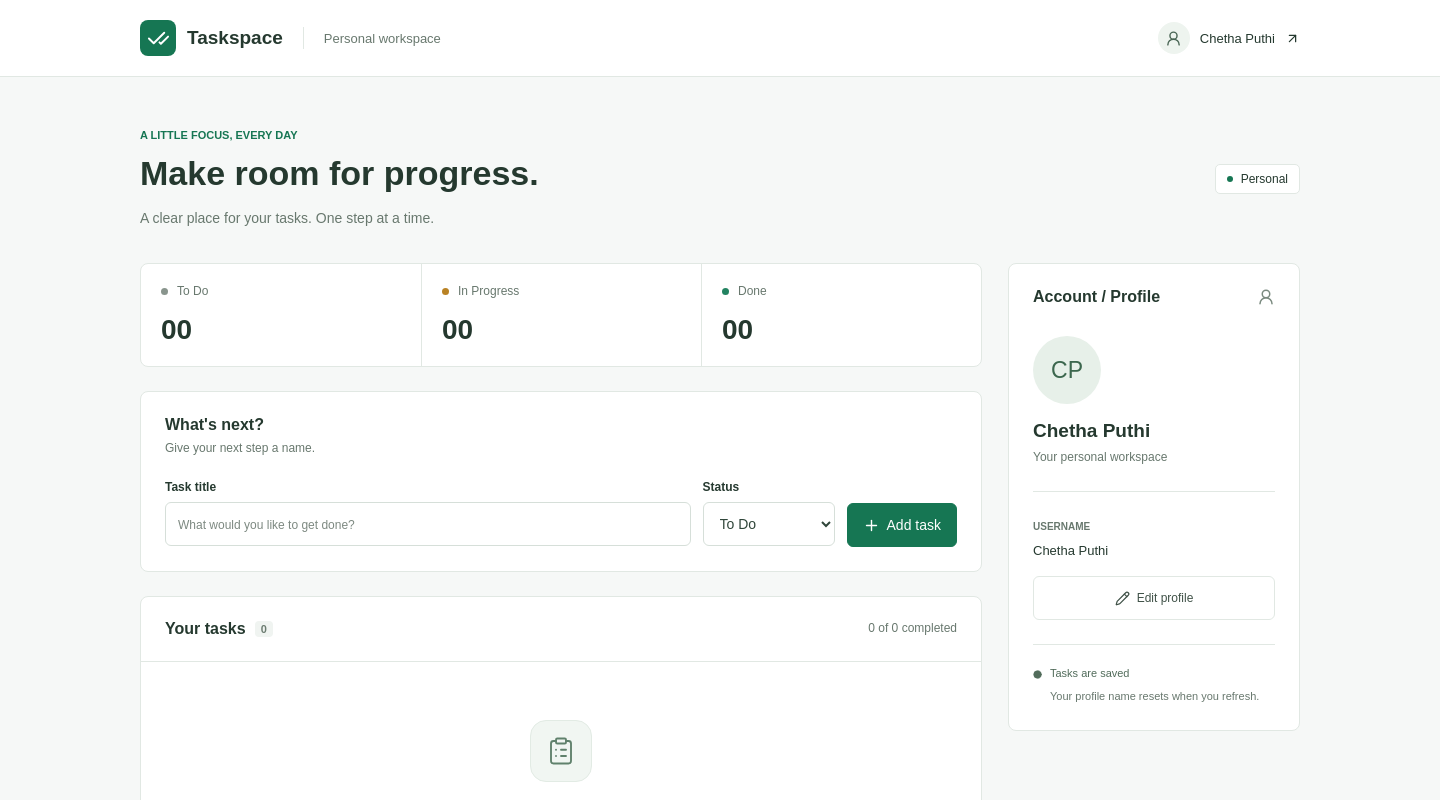
Test: Todo workspace › requires confirmation before deleting and returns to the empty state
This screenshot has width=1440, height=800.
Expected: the button "Add task" is enabled, x1=846 y1=503 x2=957 y2=547
Click the field labelled "Task title": point(428, 524) x1=165 y1=502 x2=690 y2=546
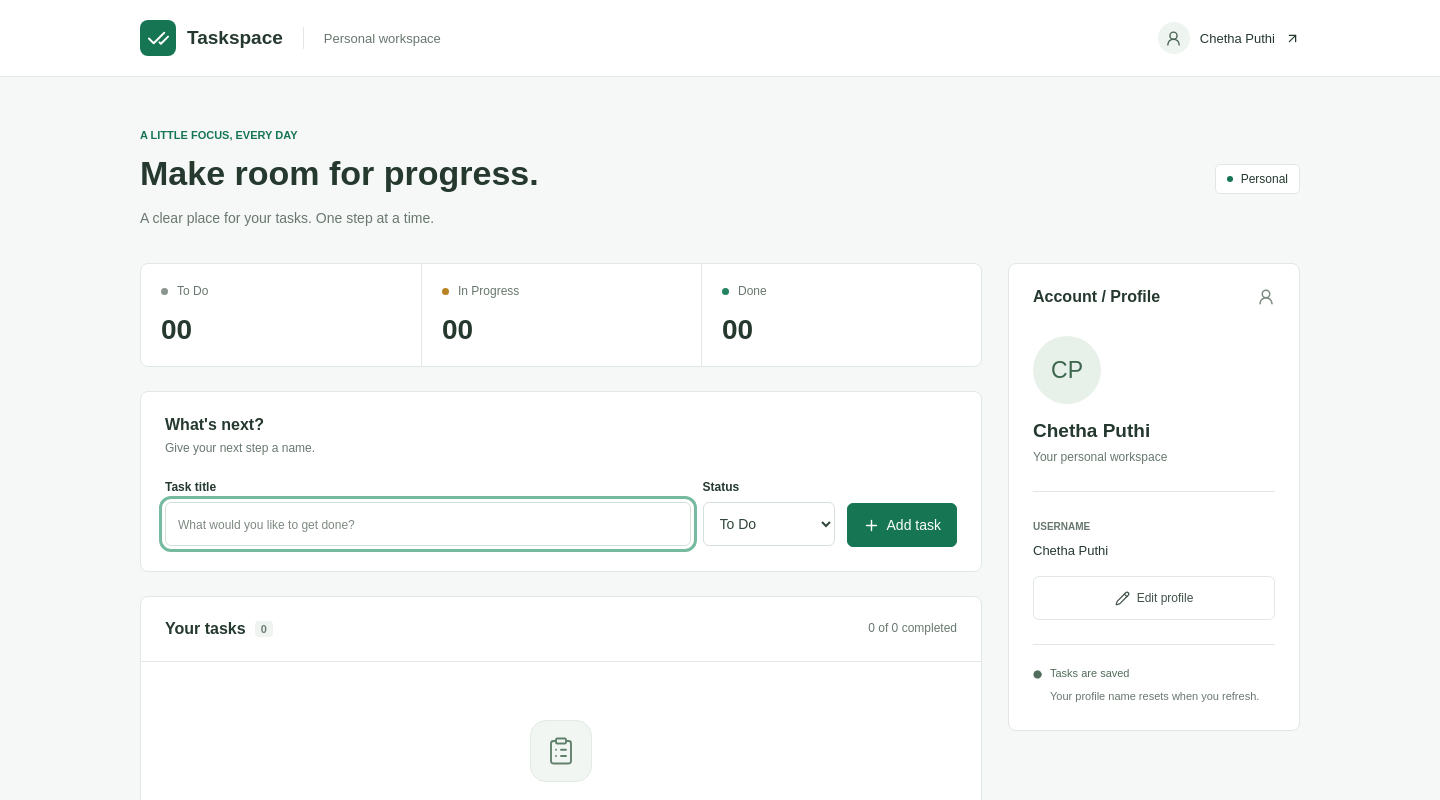
Type keys "Learn React"
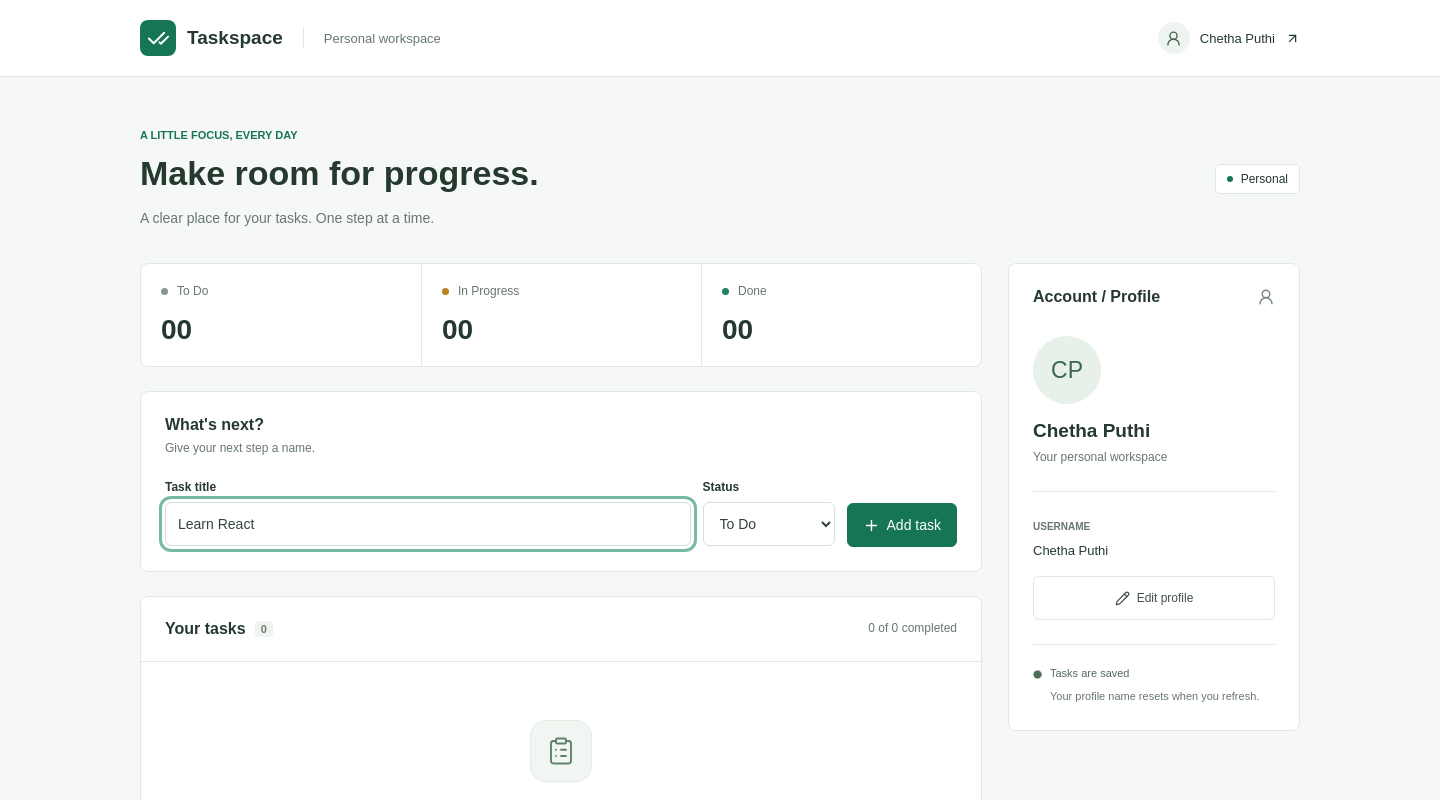
Select "To Do" in the dropdown labelled "Status": point(768, 524) x1=702 y1=502 x2=834 y2=546
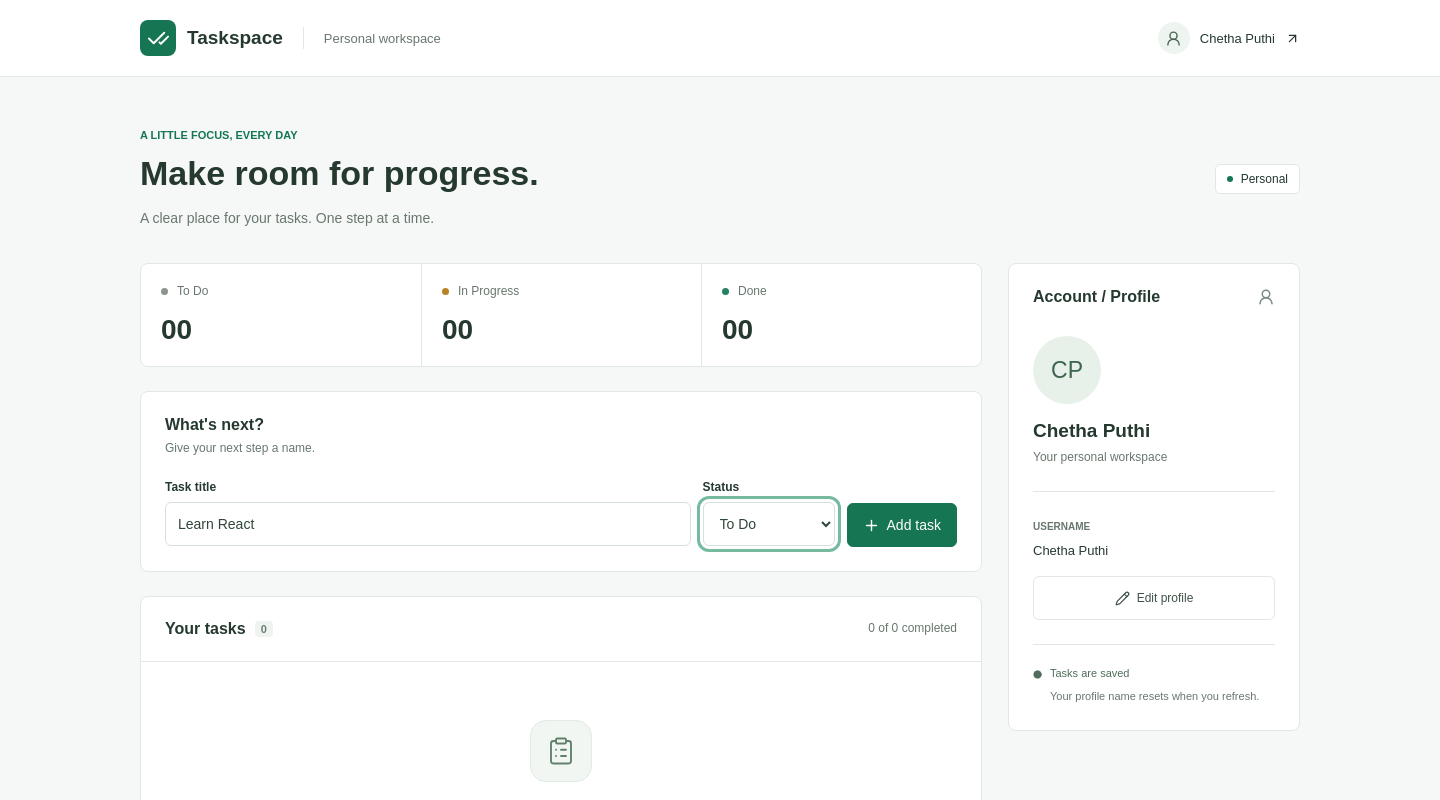
Click the button "Add task": point(902, 525) x1=846 y1=503 x2=957 y2=547
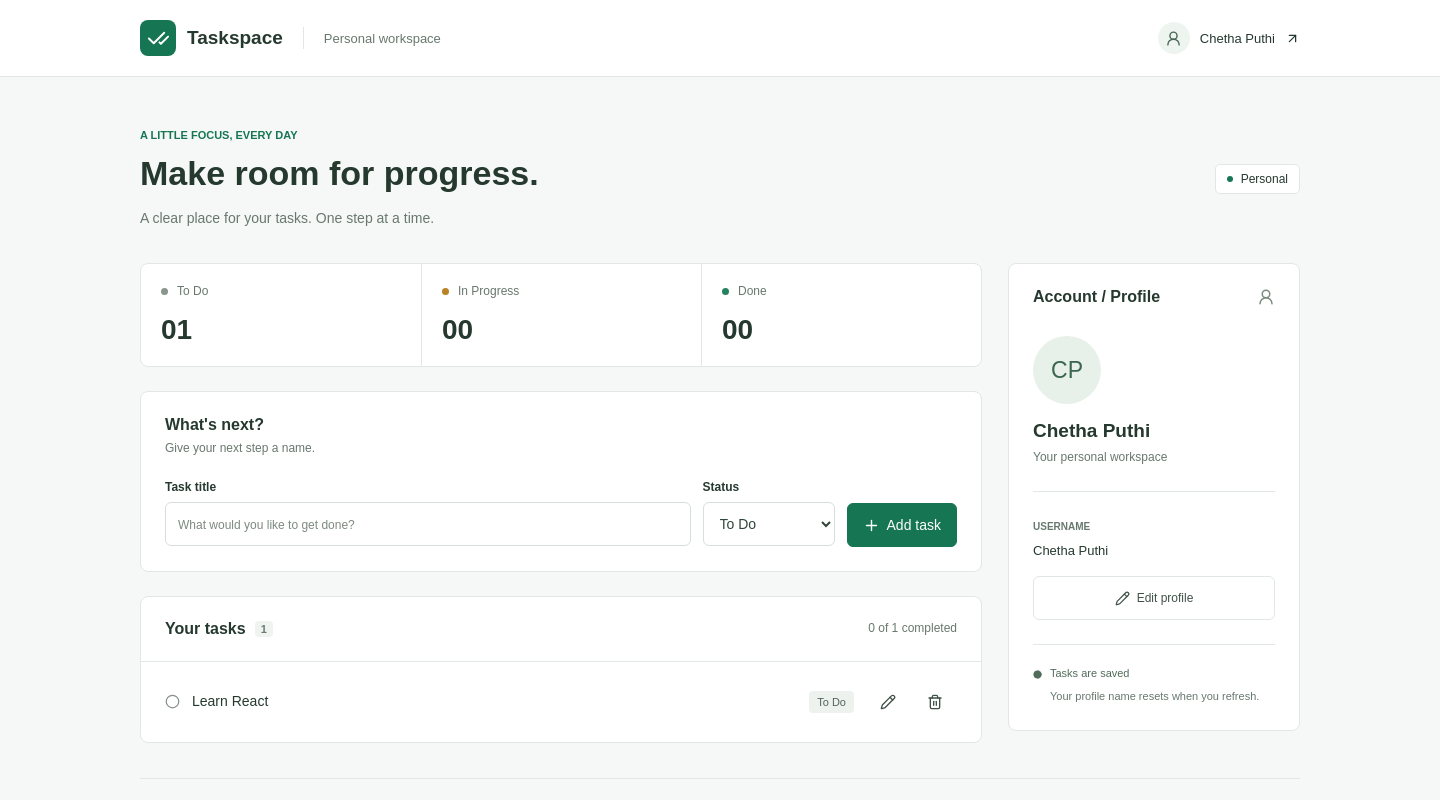
Click the button named "Delete Learn React": point(935, 702) x1=913 y1=680 x2=957 y2=724
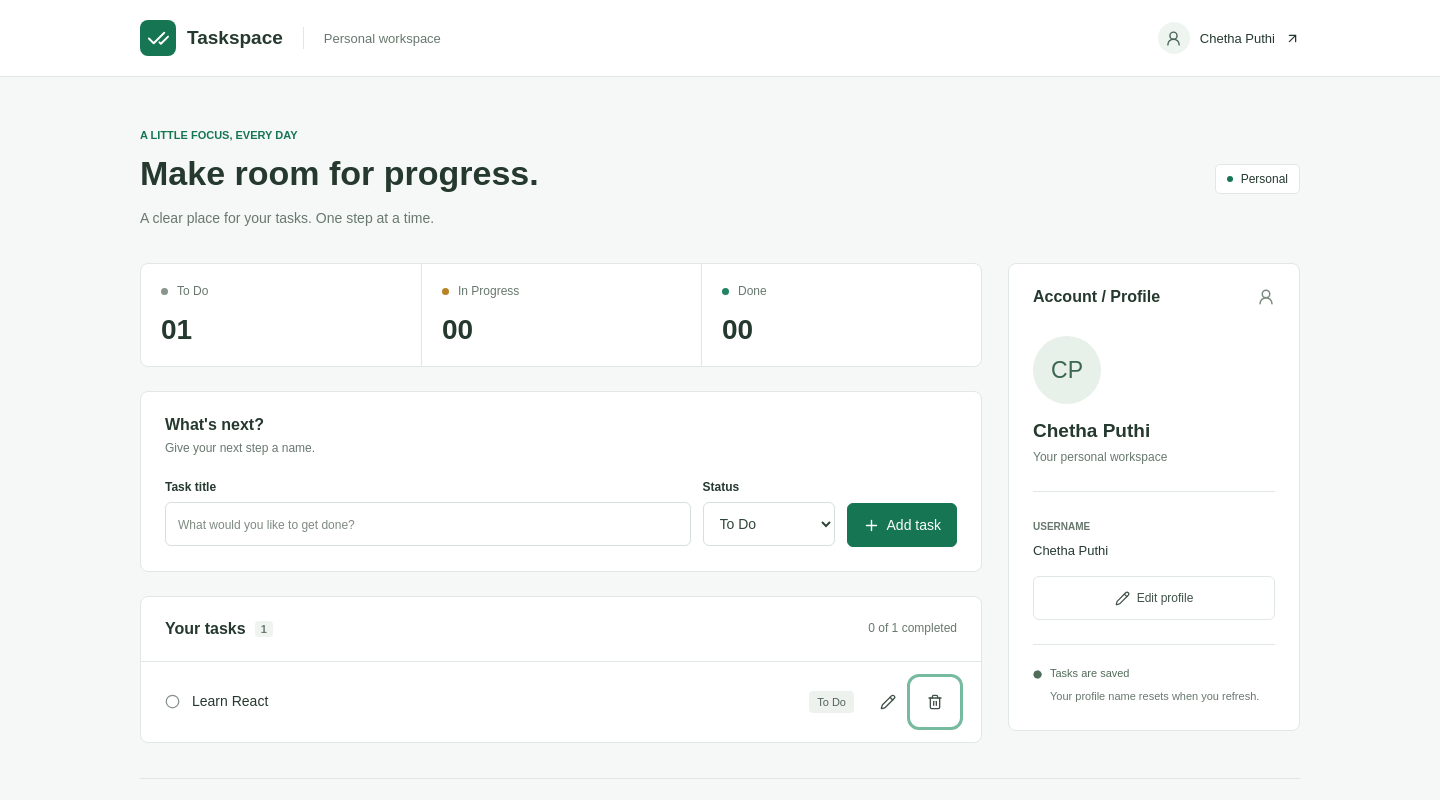
Now the text "Learn React" is shown, box x1=192 y1=693 x2=268 y2=709
Click the button named "Delete Learn React": point(935, 702) x1=913 y1=680 x2=957 y2=724
(page scrolled)
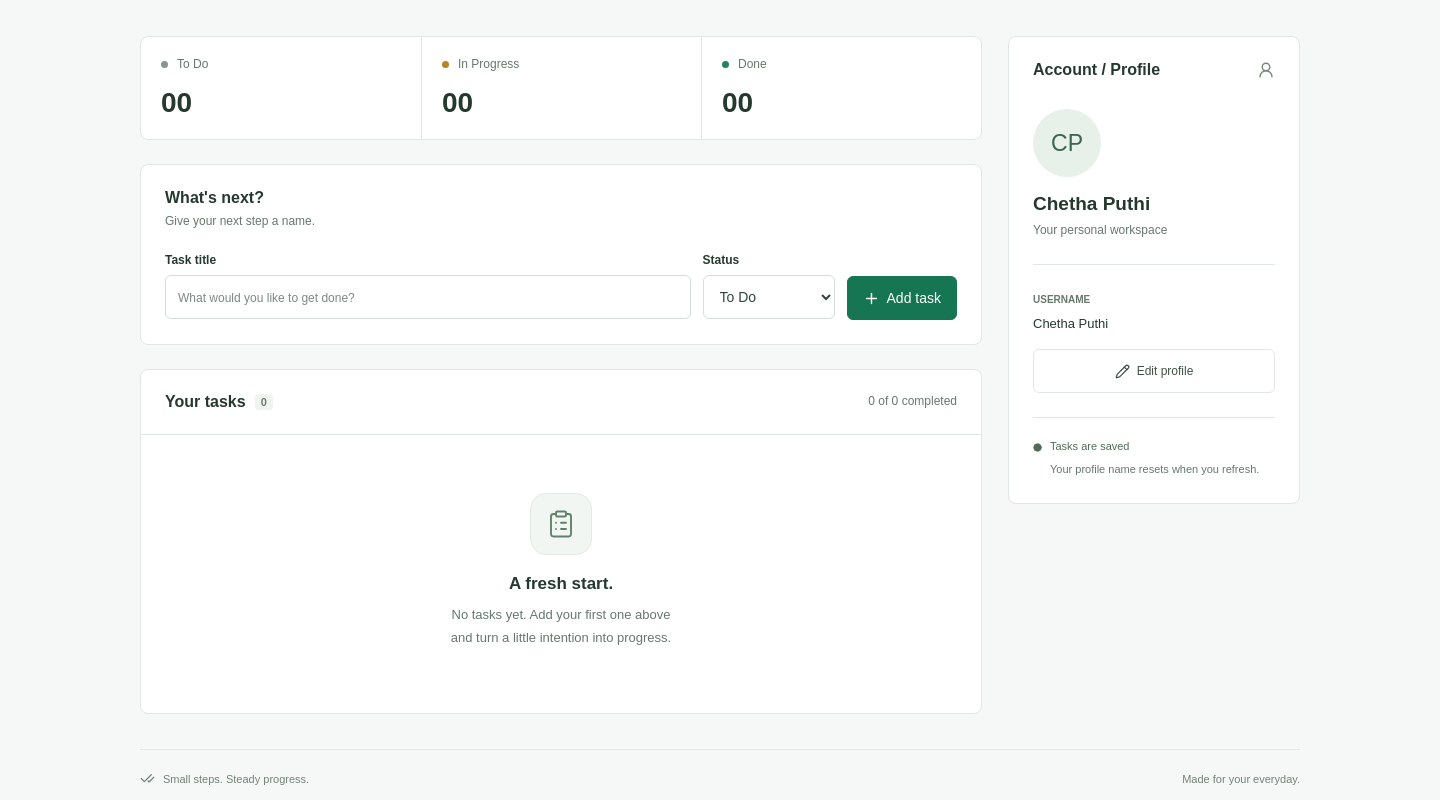
Now the heading "A fresh start." is shown, box x1=509 y1=574 x2=613 y2=593
